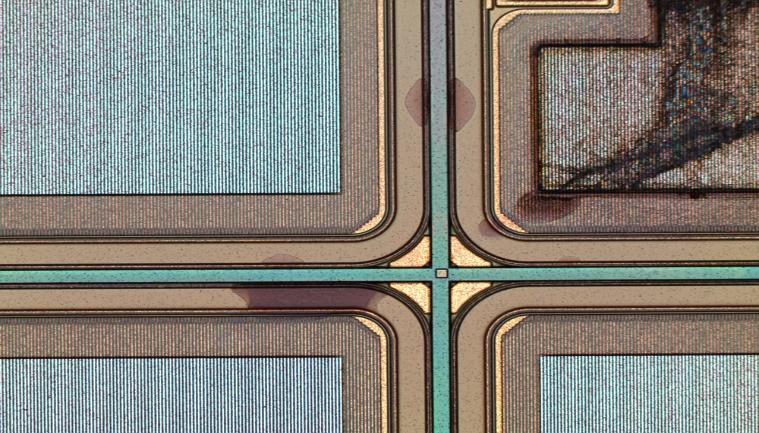SEZ BURNT: (229, 1, 759, 324)
